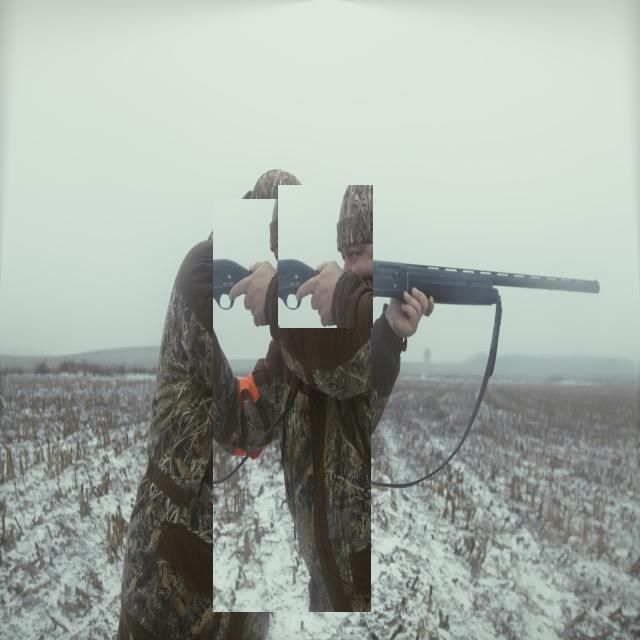poacher: (213, 199, 371, 612)
weapon: (278, 185, 373, 328)
